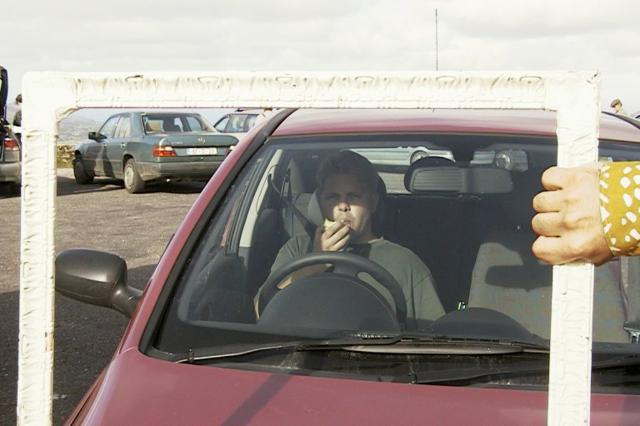Seatbelt: (272, 176, 320, 240)
